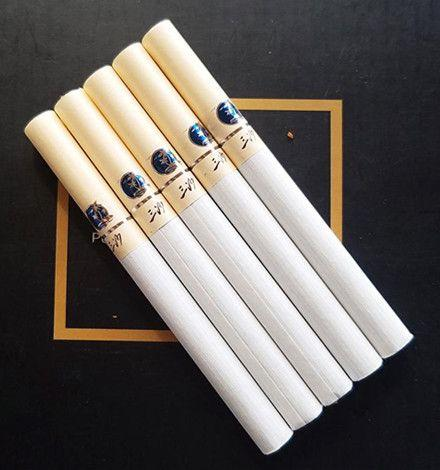smoke: (24, 109, 295, 455), (111, 41, 385, 383), (82, 66, 355, 408), (54, 88, 325, 432), (142, 19, 415, 358)
